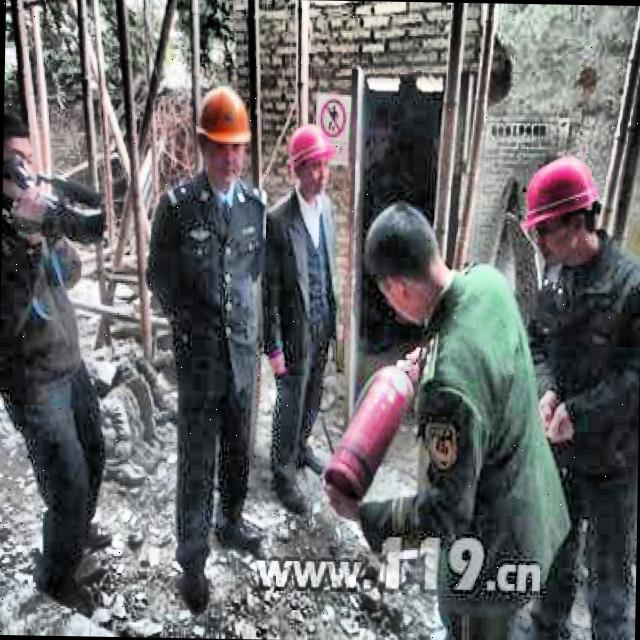helmet: (506, 142, 610, 278), (188, 76, 256, 196), (282, 117, 336, 199)
